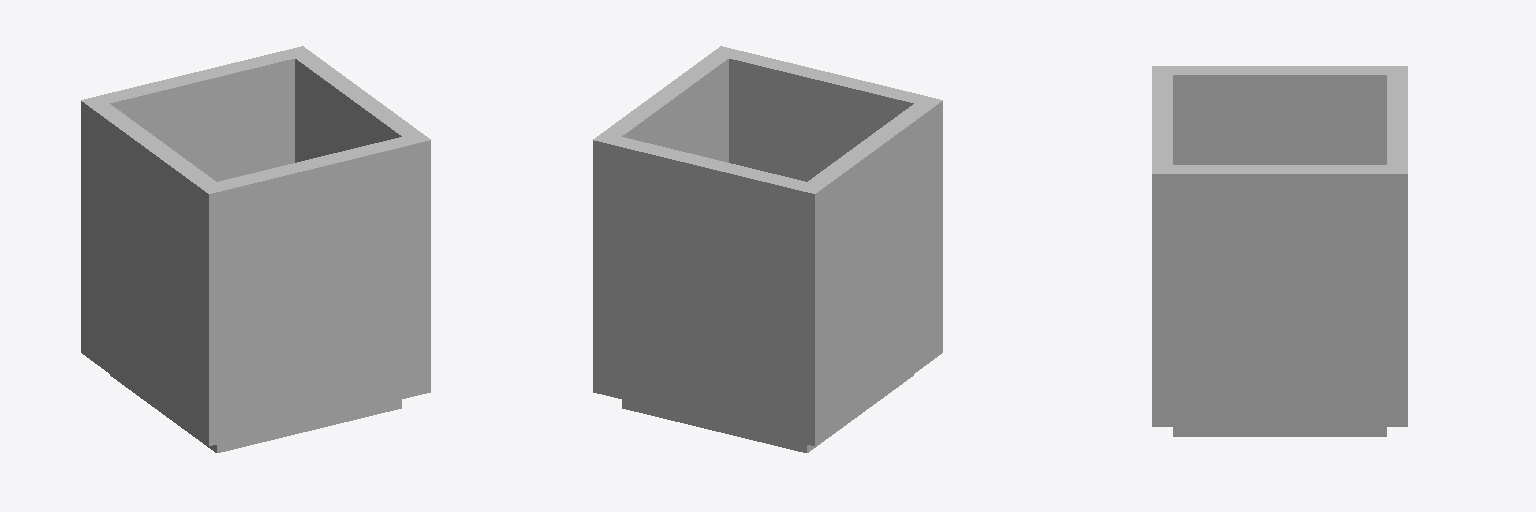
Rendered from lixeira.obj.
3 views of the same model, side by side, from view 1: azimuth 30°, elevation 25°; view 2: azimuth 150°, elevation 25°; view 3: azimuth 270°, elevation 25° (orthographic).
Parts seen in each view (by area): view 1: object 1; view 2: object 1; view 3: object 1.
Part boxes in pixels (bbox=[...]): object 1: bbox=[81, 46, 430, 452]; object 1: bbox=[593, 46, 942, 452]; object 1: bbox=[1152, 66, 1407, 436].
Bounding box in the file's own units: 1.2 × 1.4 × 1.2.